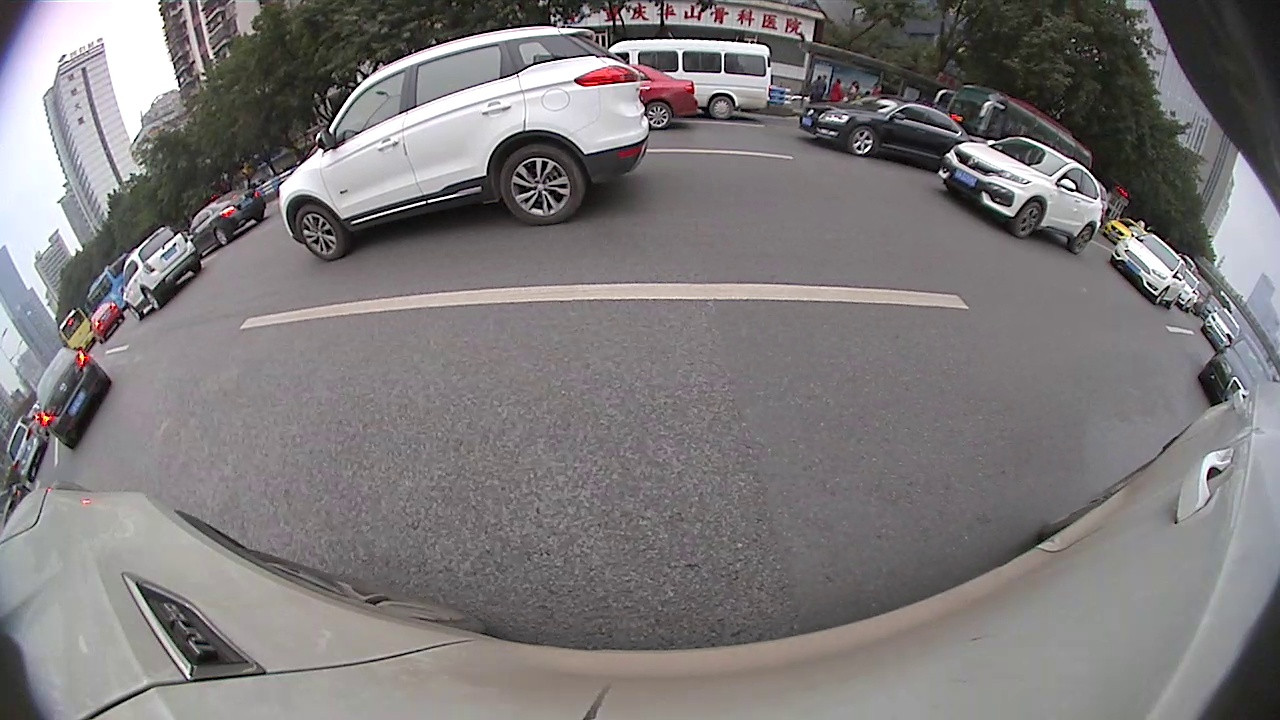bus: (936, 82, 1097, 169)
car: (278, 20, 645, 261), (936, 131, 1105, 255), (606, 35, 771, 117), (802, 91, 974, 162), (32, 345, 114, 453), (121, 225, 202, 320), (1108, 225, 1190, 309), (622, 58, 700, 133), (189, 185, 267, 254), (1196, 336, 1271, 407), (6, 414, 48, 482), (88, 296, 124, 341)
front: (295, 204, 344, 260), (1014, 203, 1044, 239), (851, 125, 878, 158), (1153, 285, 1168, 307), (126, 304, 146, 320), (1180, 299, 1191, 311)
rear: (500, 143, 583, 226), (645, 103, 673, 129), (1073, 225, 1095, 255), (140, 287, 164, 310), (709, 96, 734, 118), (141, 288, 160, 310), (213, 228, 228, 246), (1170, 291, 1180, 312)
